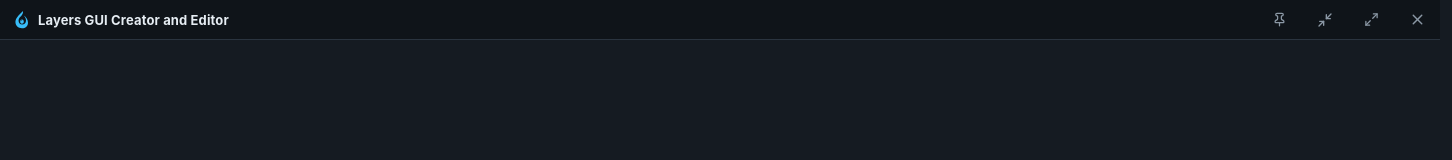
Test: the desktop app floats on top and remembers it for next time
This screenshot has width=1452, height=160.
Click the button named "Float on top". click: (1279,20)
box: [1256,12,1302,27]
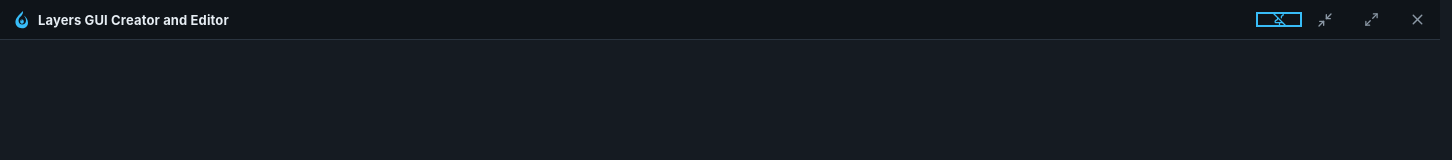
Check: the button named "Stop floating" is pressed, box [1256,12,1302,27]
